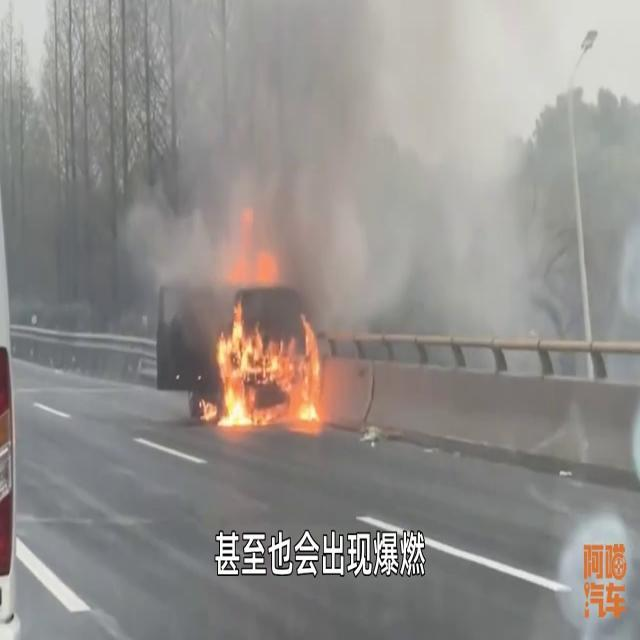Fire: (205, 292, 328, 434)
Smoke: (128, 0, 633, 325)
